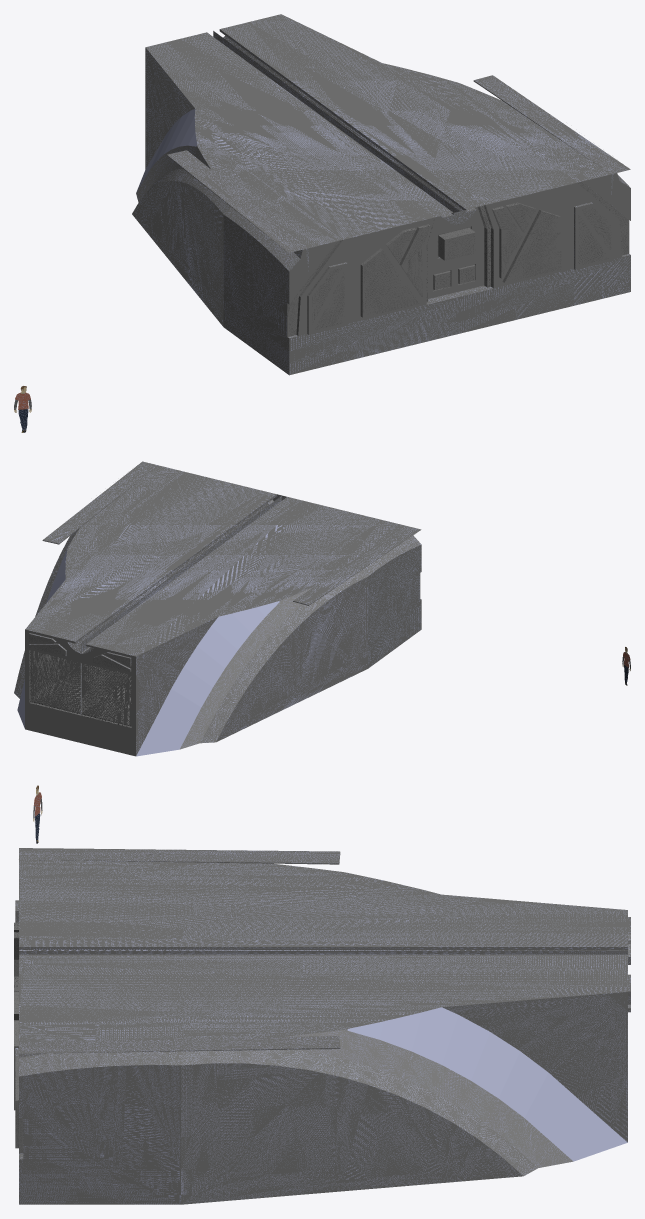
3 renders of one model, top to bottom at view 1: azimuth 30°, elevation 25°; view 2: azimuth 150°, elevation 25°; view 3: azimuth 270°, elevation 25°, orthographic. The views are drawn at different scales.
Visible parts, largest first — view 1: SketchUp (×28); view 2: SketchUp (×11); view 3: SketchUp (×6).
Part boxes in pixels (<box>): SketchUp (×28): <box>132,14,630,375</box>; SketchUp (×11): <box>14,461,421,756</box>; SketchUp (×6): <box>19,848,627,1204</box>.
Size of the model in its own units: 960 by 684 by 186.
